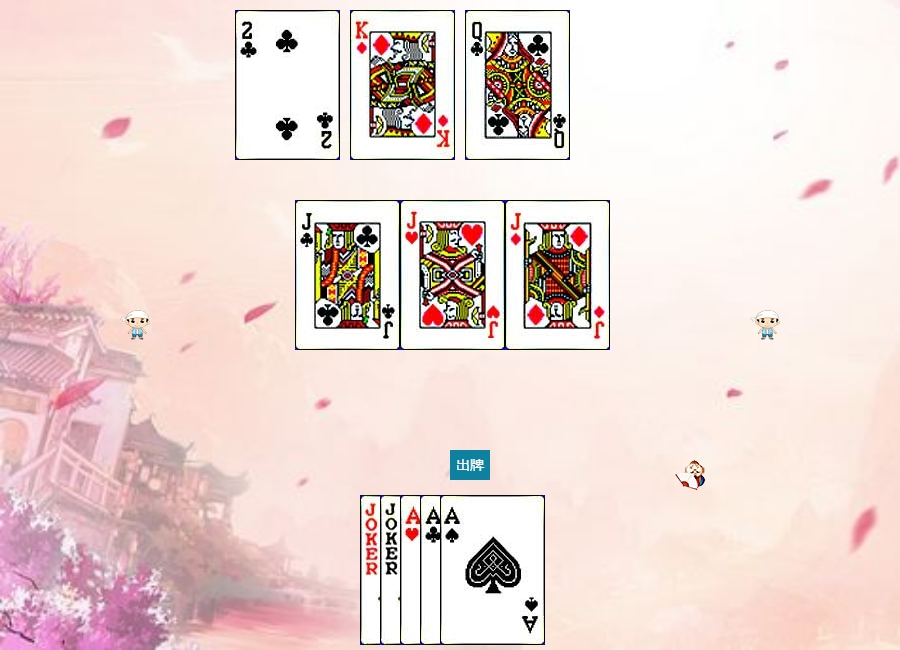11~1: (505, 200, 610, 350)
11~2: (295, 200, 400, 350)
11~3: (400, 200, 505, 350)
12~2: (465, 10, 570, 160)
13~1: (350, 10, 455, 160)
14~2: (420, 495, 525, 645)
14~3: (400, 495, 505, 645)
14~4: (440, 495, 545, 645)
15~2: (235, 10, 340, 160)
17~3: (380, 495, 485, 645)
18~4: (360, 495, 465, 645)
